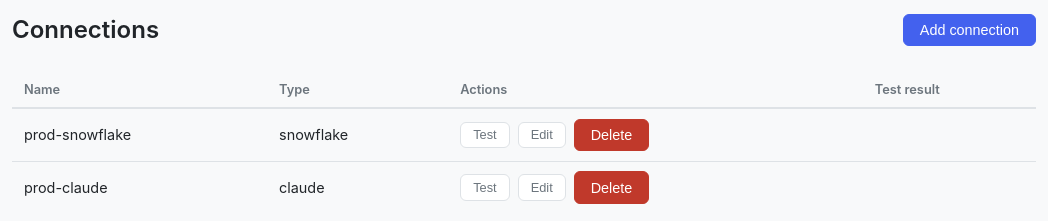
Test: SettingsPage › shows error message after test returns ok=false
The width and height of the screenshot is (1048, 221).
expect the text "prod-snowflake" is shown: met, box [12, 108, 267, 161]
Click the button "Test" in the row of "prod-snowflake".
click(485, 135)  # box [460, 122, 510, 148]
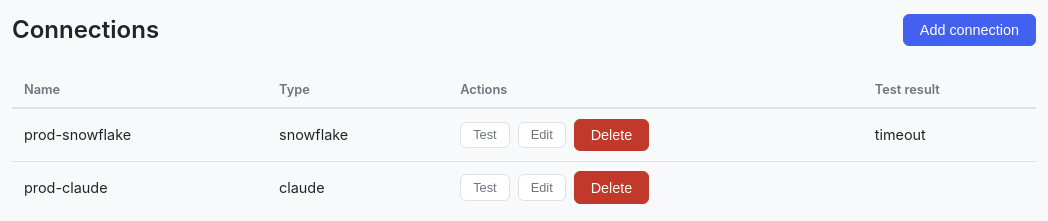
expect the text "timeout" is shown: met, box [875, 126, 926, 143]
